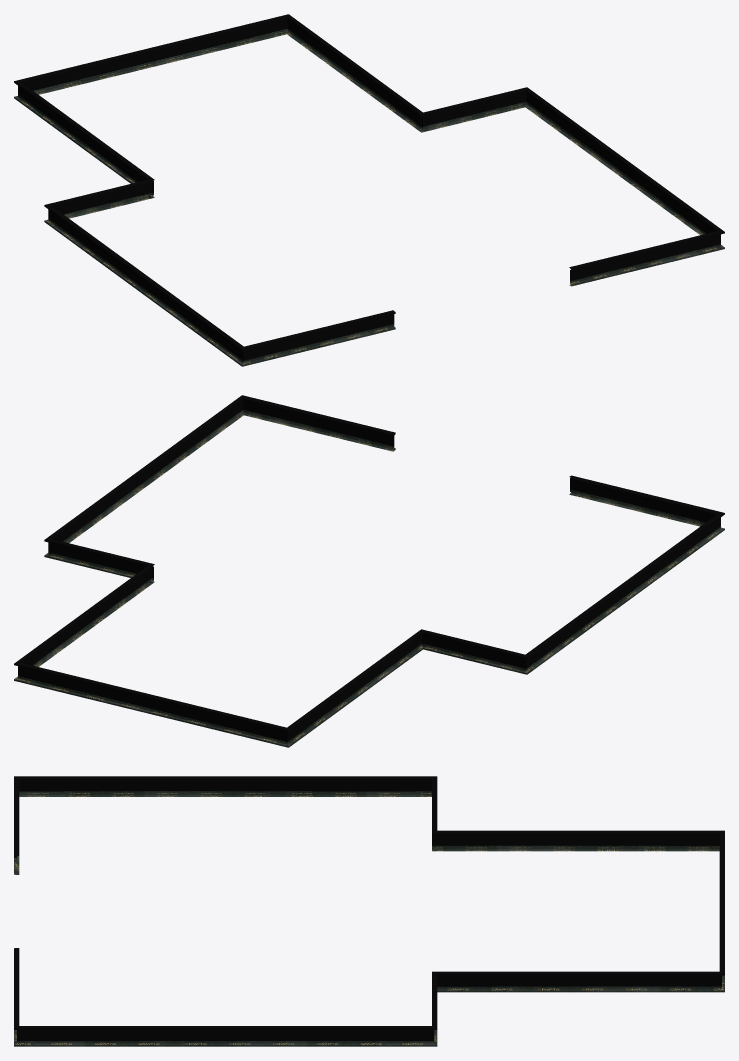
File: Launch_Wall_Exterior_Joint_Art.fbx
3 views of the same model, one above another, from view 1: azimuth 30°, elevation 25°; view 2: azimuth 150°, elevation 25°; view 3: azimuth 270°, elevation 25° (orthographic). The views are drawn at different scales.
Visible parts, largest first — view 1: Launch_Building_Coon_Exterior_Joint1; view 2: Launch_Building_Coon_Exterior_Joint1; view 3: Launch_Building_Coon_Exterior_Joint1.
Boxes of the visible parts, x1,y1,x2,y2 form: Launch_Building_Coon_Exterior_Joint1: (14,14,724,366); Launch_Building_Coon_Exterior_Joint1: (14,395,724,747); Launch_Building_Coon_Exterior_Joint1: (14,776,724,1046).
Size of the model in its own units: 2916 by 102 by 3475.
